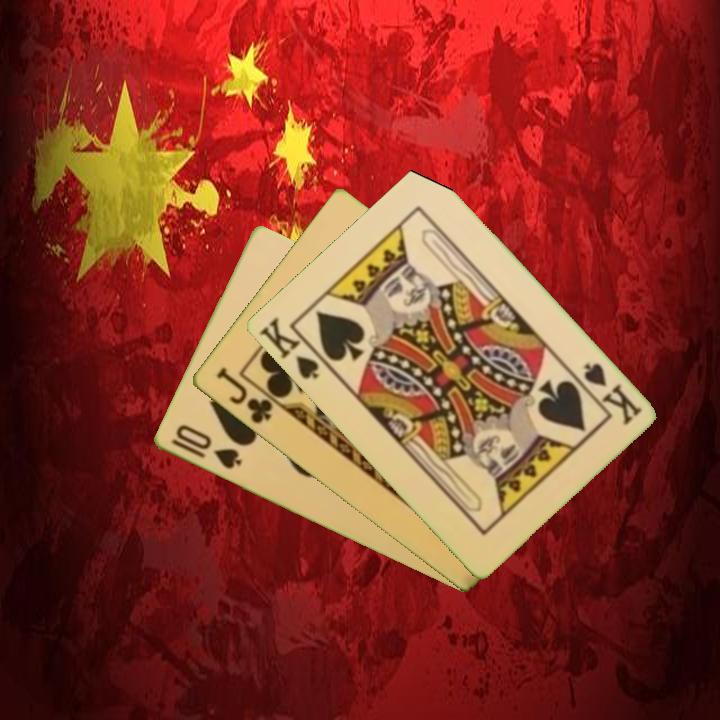10s: (167, 421, 245, 472)
Jc: (212, 364, 276, 427)
Ks: (255, 313, 332, 382), (579, 359, 645, 429)
